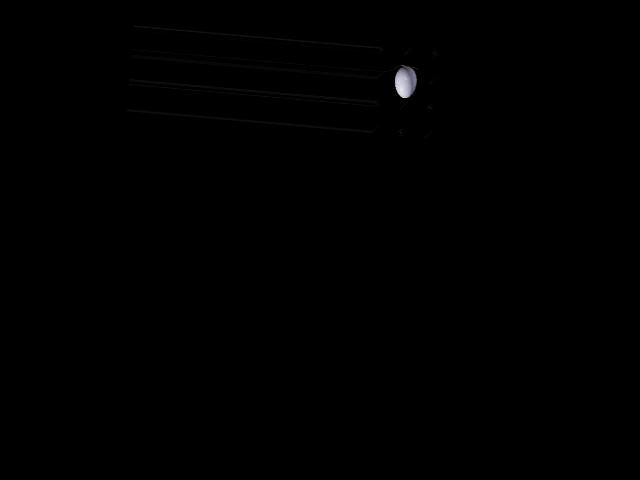egg: (392, 65, 417, 98)
